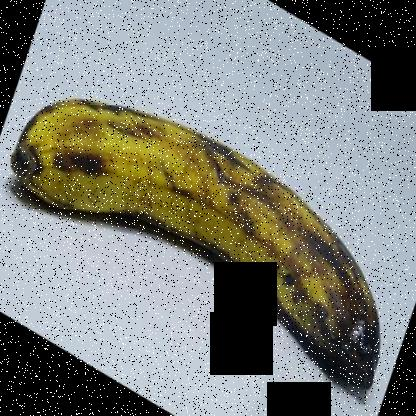overripe: (5, 92, 384, 391)
